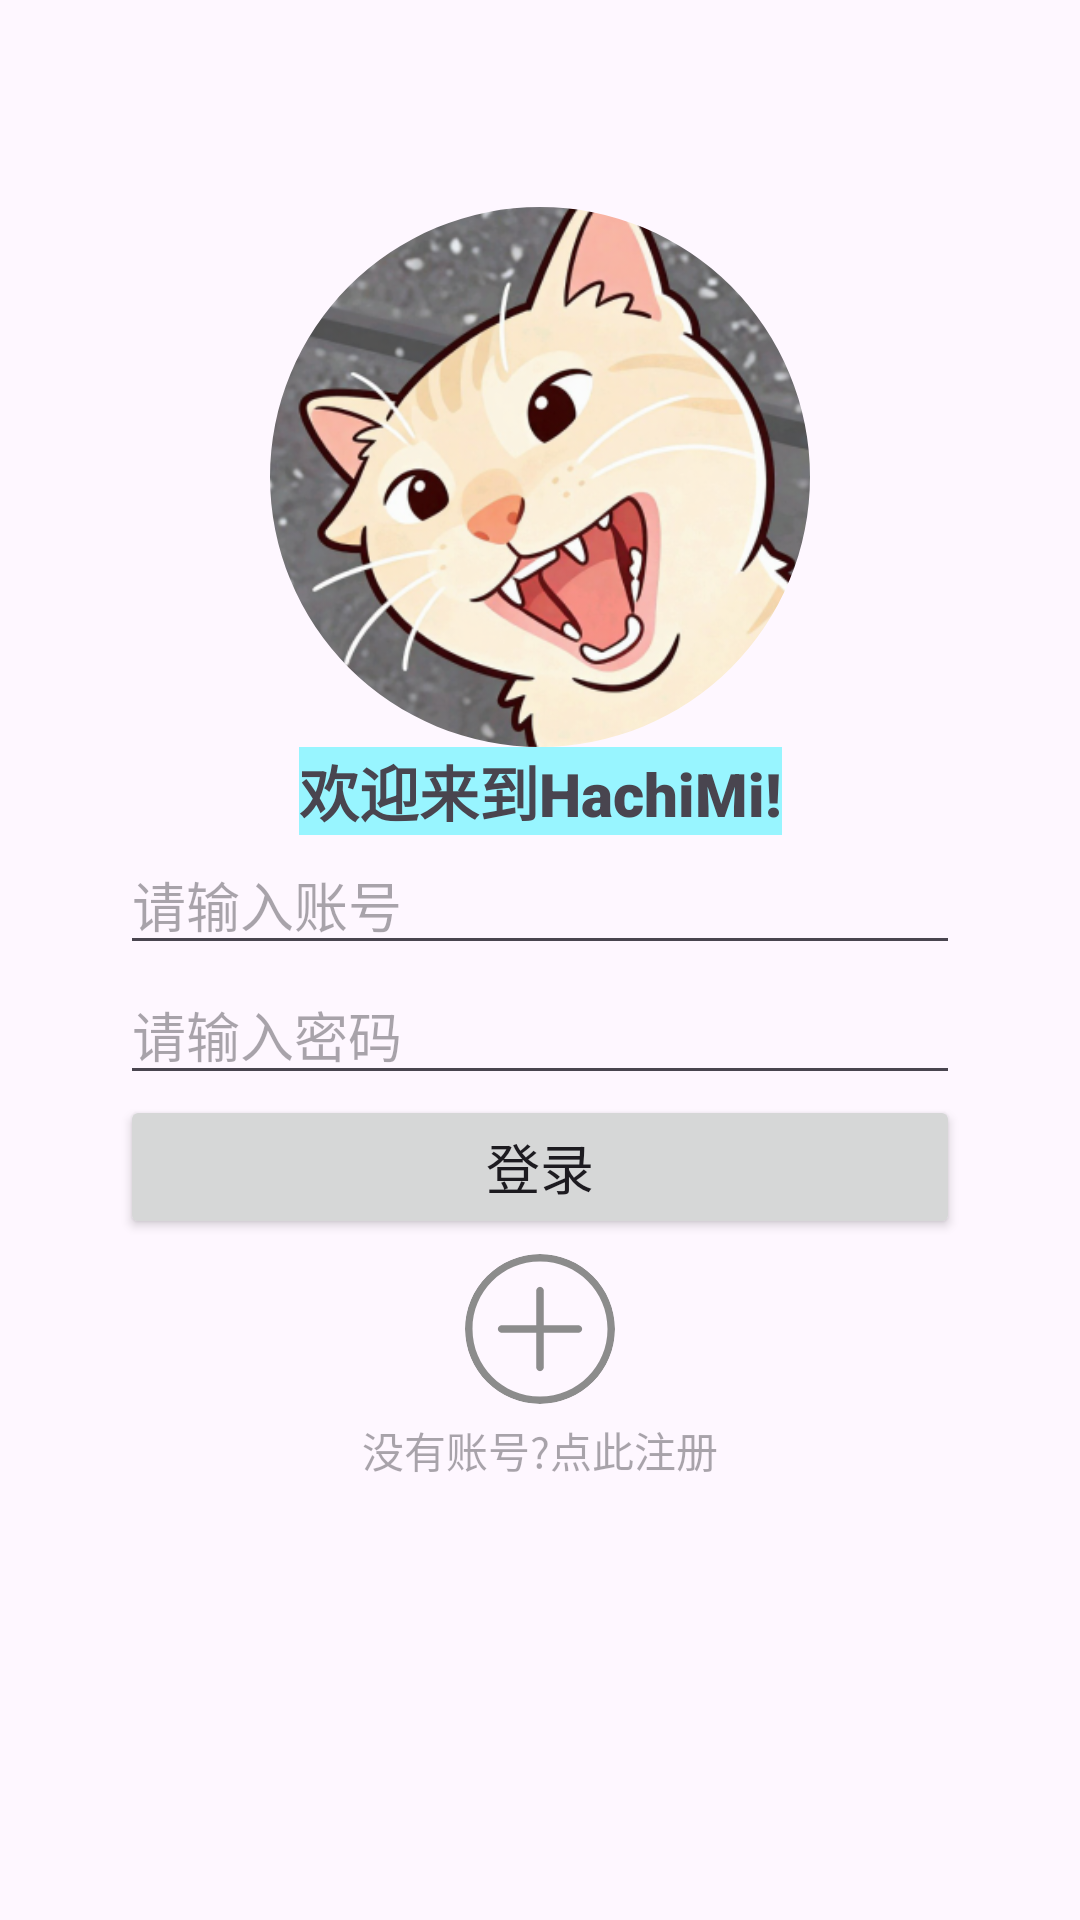

Icons on this 1080x1920 Android screen, each with its box as {"left": x1, "top": y1, "right": x2, "bottom": y2}:
add iv: {"left": 465, "top": 1254, "right": 615, "bottom": 1404}
